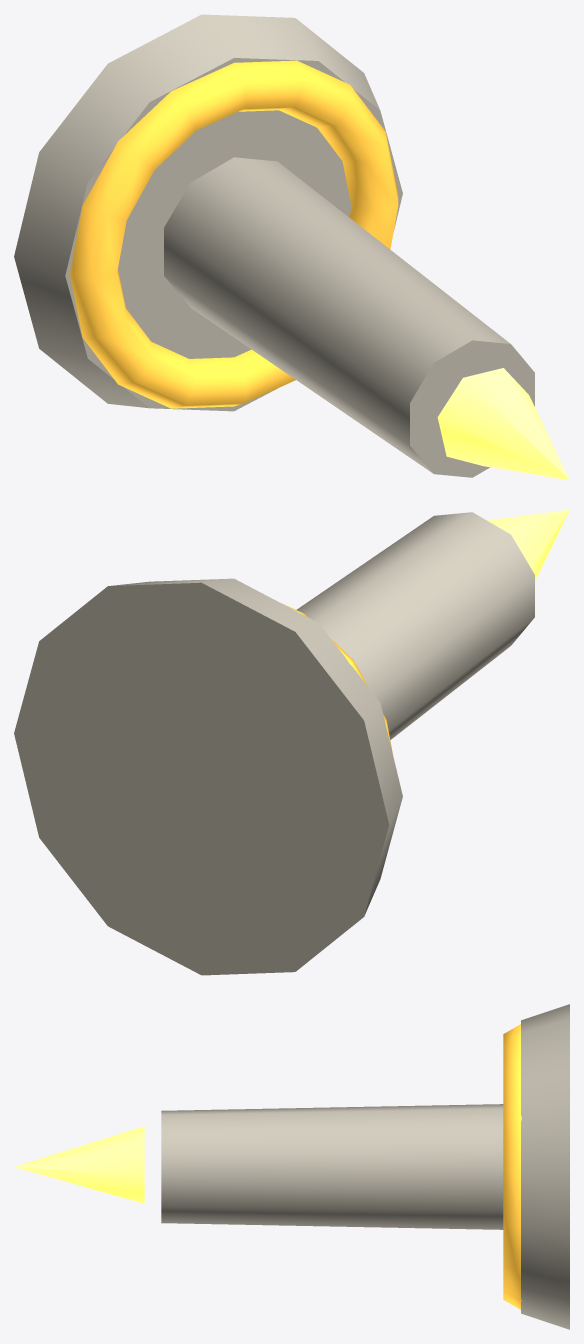
The model's file is candle.glb.
3 renders of one model, top to bottom at view 1: azimuth 30°, elevation 25°; view 2: azimuth 150°, elevation 25°; view 3: azimuth 270°, elevation 25°, orthographic. The views are drawn at different scales.
Parts seen in each view (by area): view 1: Wax, Holder, Flame; view 2: Wax, Flame; view 3: Wax, Flame, Holder.
Boxes of the visible parts, x1,y1,x2,y2 form: Wax: (14,14,534,477); Holder: (70,60,398,408); Flame: (437,368,569,480); Wax: (14,512,534,975); Flame: (487,509,569,580); Wax: (161,1004,569,1329); Flame: (15,1126,144,1203); Holder: (503,1024,521,1309).
Size of the model in its own units: 0.4 by 0.4 by 0.68.
